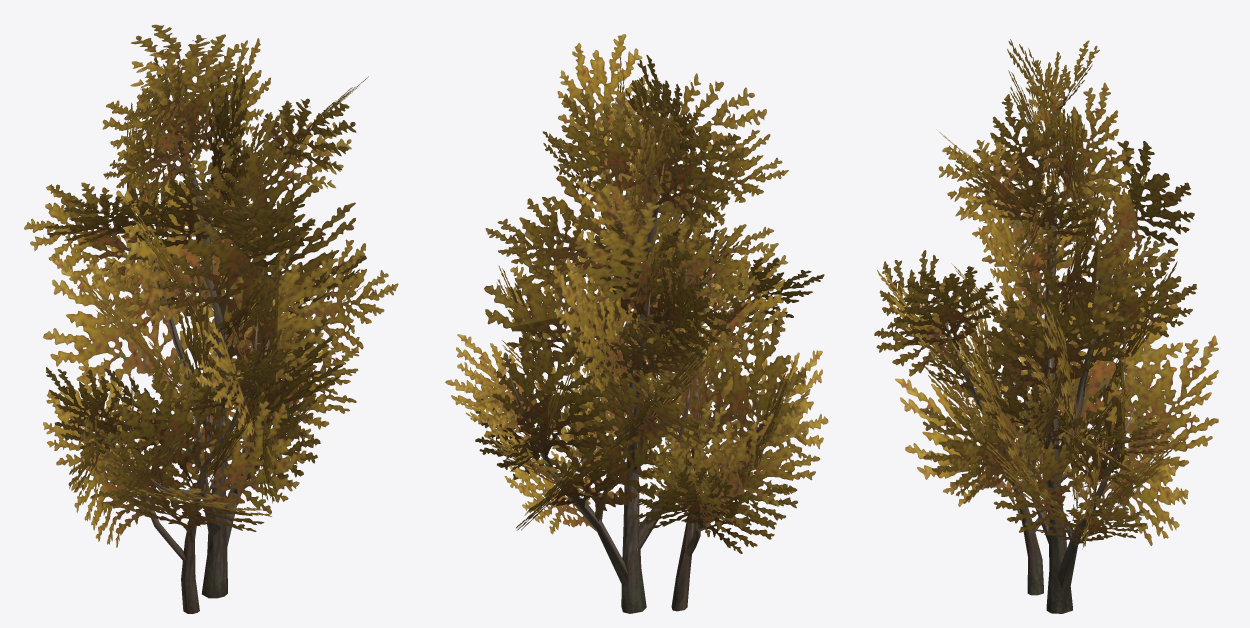
The model's file is plant_lobbynew02_zhiwu_shu09.FBX.
3 renders of one model, left to right at view 1: azimuth 30°, elevation 25°; view 2: azimuth 150°, elevation 25°; view 3: azimuth 270°, elevation 25°, orthographic. The views are drawn at different scales.
Visible parts, largest first — view 1: plant_lobbynew02_zhiwu_shu09; view 2: plant_lobbynew02_zhiwu_shu09; view 3: plant_lobbynew02_zhiwu_shu09.
Part boxes in pixels (box(x1,y1,x2,y2)): plant_lobbynew02_zhiwu_shu09: box(24, 24, 398, 613); plant_lobbynew02_zhiwu_shu09: box(445, 34, 828, 613); plant_lobbynew02_zhiwu_shu09: box(874, 39, 1218, 613).
Bounding box in the file's own units: 514 × 482 × 808.
